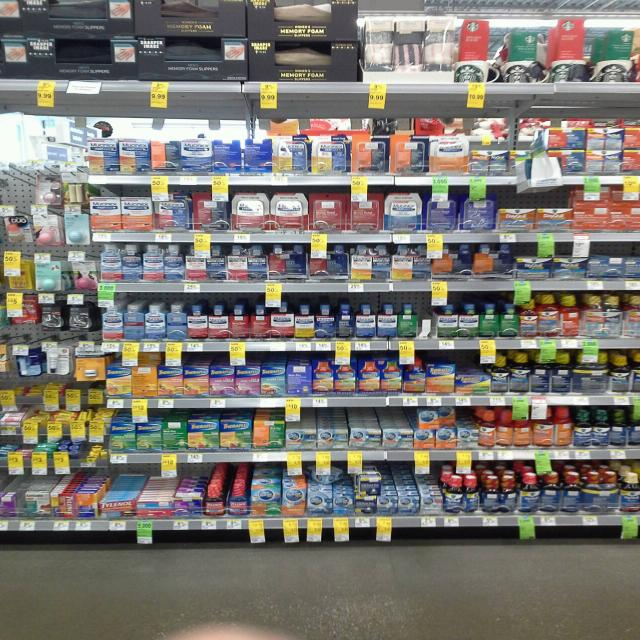empty: (414, 295, 441, 342)
